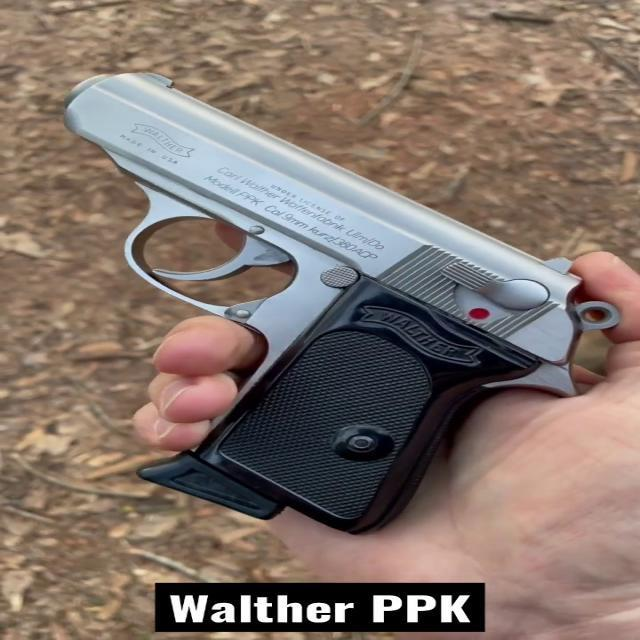Handgun: (44, 72, 589, 544)
